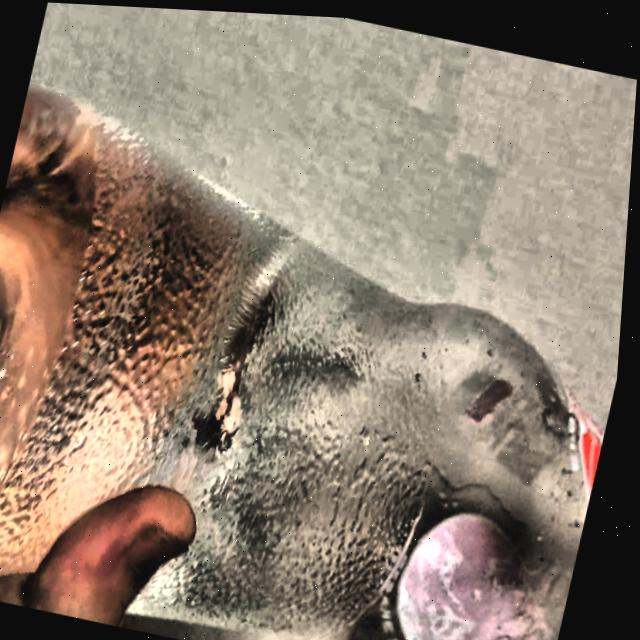plastic: (0, 83, 611, 640)
